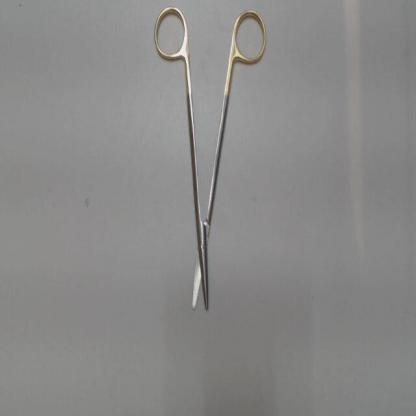7 Metzenbaum Scissors: (152, 3, 272, 320)
